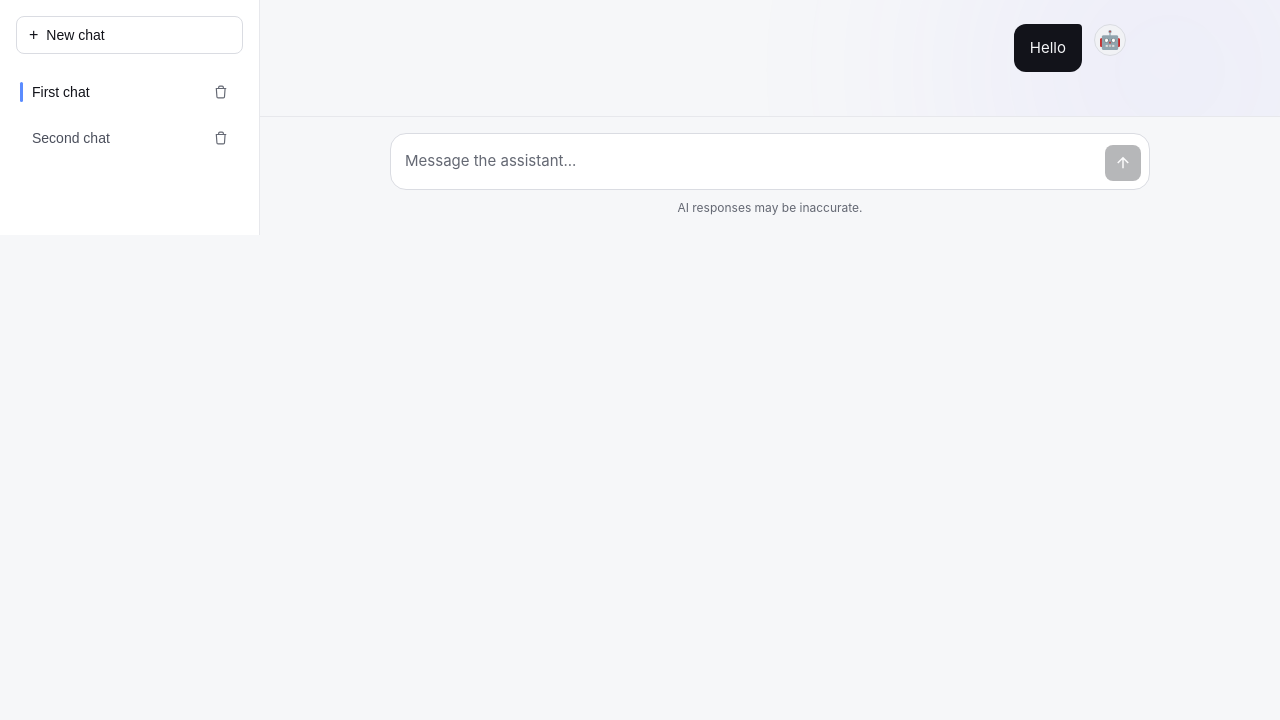
Test: Assistant — deleting conversations › asks for confirmation, then removes a non-active conversation from the list without a reload
Expected: the text "Hello" is shown, left=1014, top=24, right=1082, bottom=72
Click the button named "Delete Second chat" at (221,138), box left=199, top=116, right=243, bottom=160
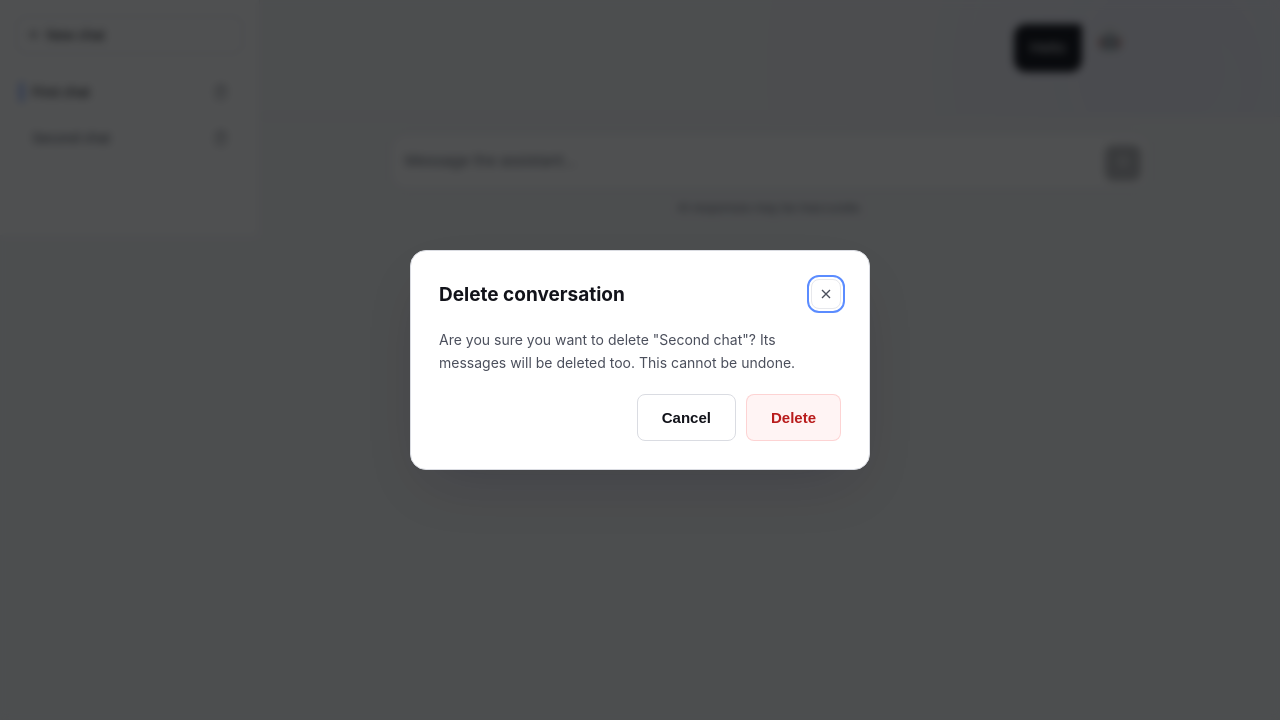
Result: the dialog shows "Are you sure you want to delete \"Second chat\"?" at left=439, top=331, right=795, bottom=370
Click the button "Delete" at (794,417), box left=746, top=394, right=841, bottom=441
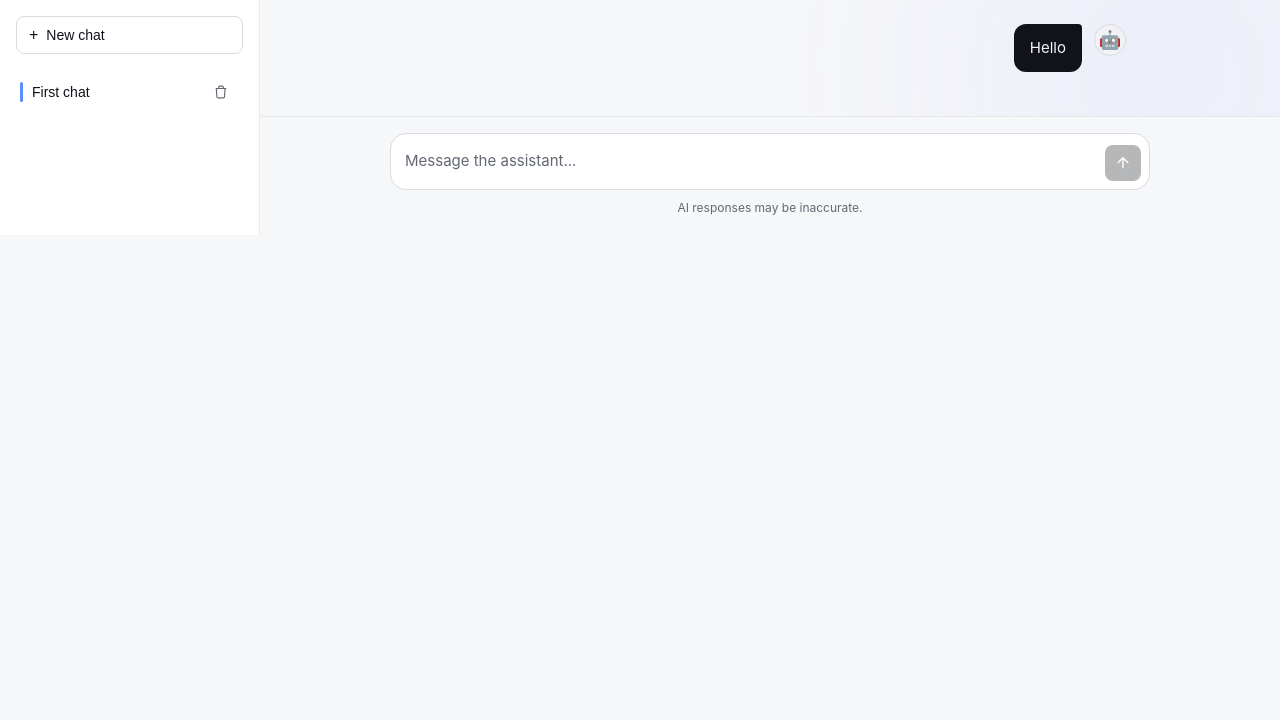
Expected: the button "First chat" is shown, left=16, top=74, right=199, bottom=110
Result: the dialog is gone
Result: the button "Second chat" is gone
